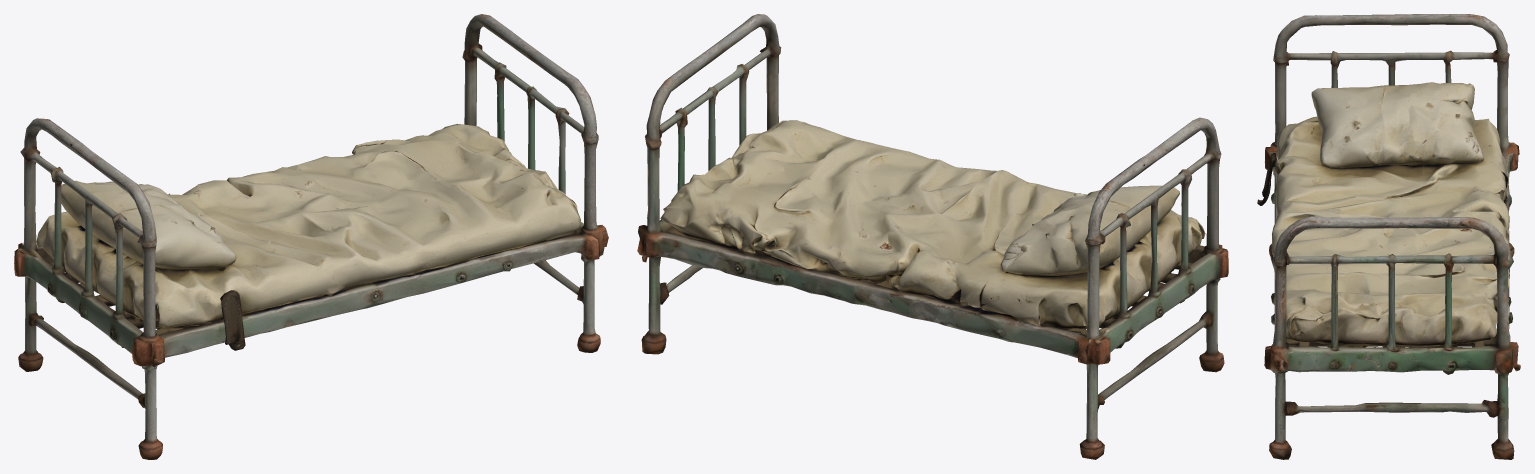
The model's file is scene-hospital-bed-v03.glb.
The picture shows the model from 3 angles, left to right: view 1: azimuth 30°, elevation 25°; view 2: azimuth 150°, elevation 25°; view 3: azimuth 270°, elevation 25°; orthographic projection. The views are drawn at different scales.
Visible parts, largest first — view 1: tripo_node_160fb648-5d0a-49d9-9b5f-4866f1adc346; view 2: tripo_node_160fb648-5d0a-49d9-9b5f-4866f1adc346; view 3: tripo_node_160fb648-5d0a-49d9-9b5f-4866f1adc346.
Part boxes in pixels (x1,y1,x2,y2): tripo_node_160fb648-5d0a-49d9-9b5f-4866f1adc346: [14, 14, 608, 459]; tripo_node_160fb648-5d0a-49d9-9b5f-4866f1adc346: [637, 14, 1228, 459]; tripo_node_160fb648-5d0a-49d9-9b5f-4866f1adc346: [1257, 14, 1520, 459].
Bounding box in the file's own units: 1.69 × 0.9 × 0.8812.
1 material, 1 textured.
